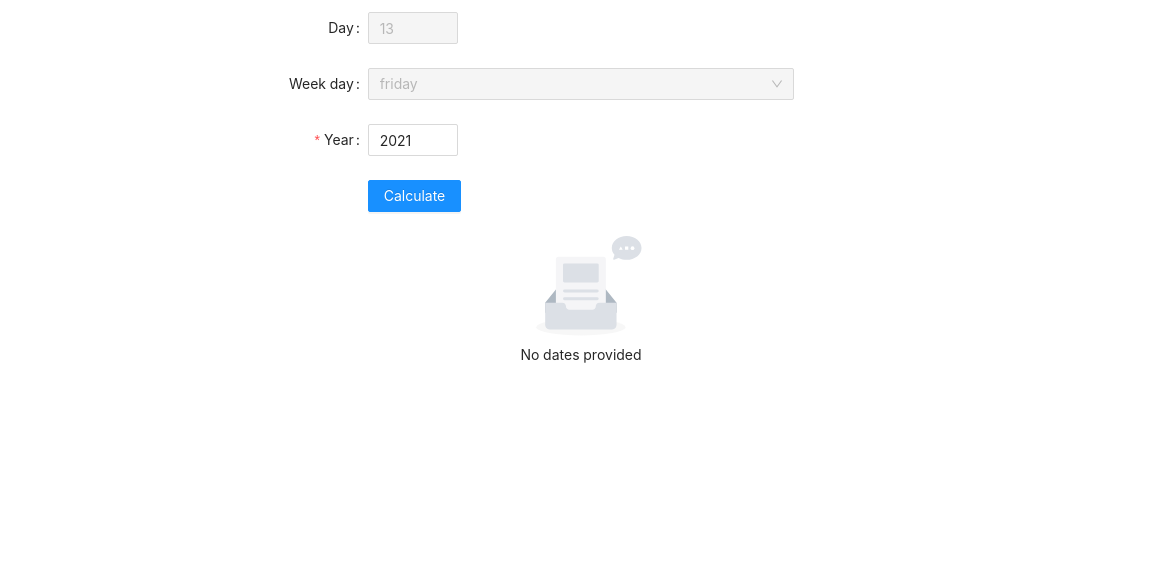
Test: DaysFinder component (defaulting day 13 friday) › should display 2 calendars for the year 2020 and 3 for 2015
Replace the text in the number field labelled "Year" with "2020" at (413, 140), box [369,125,457,155]
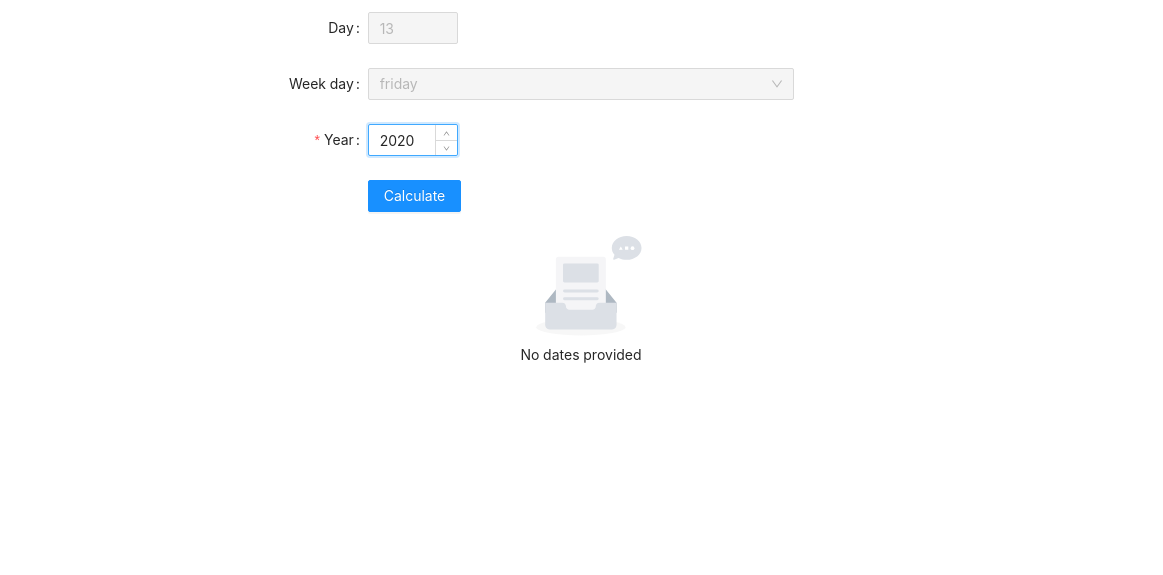
Expected: the text "No dates provided" is shown, [520,346,642,363]
Click the button with test id "submit" at (414, 196), box [368,180,461,212]
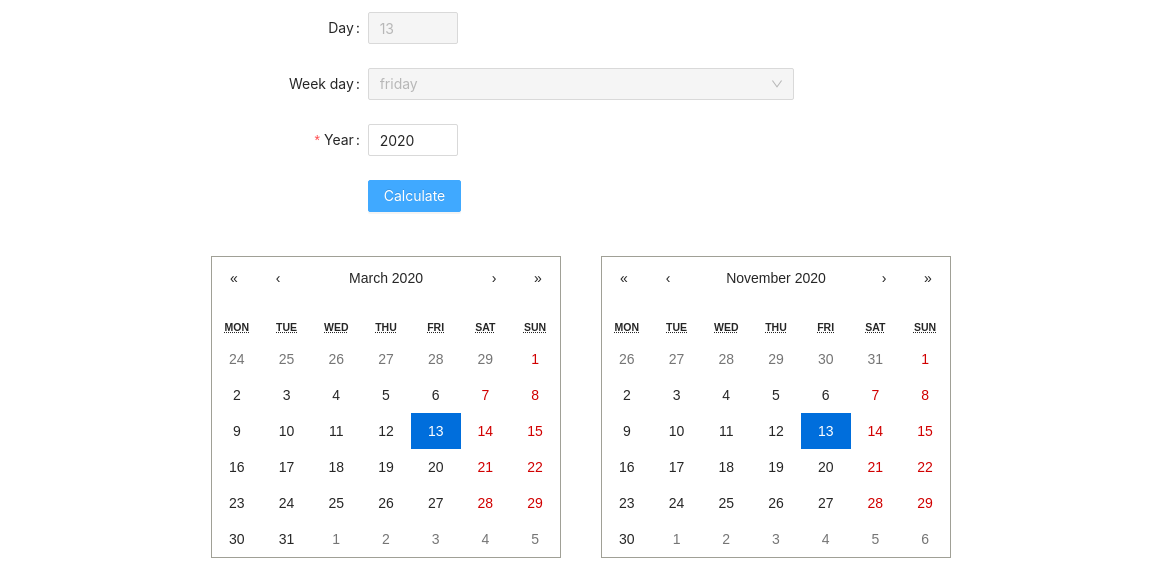
Expected: the number of elements with class "calendar" is 2, [211,256,561,558]; [601,256,951,558]
Replace the text in the number field labelled "Year" with "2015" at (413, 140), box [369,125,457,155]
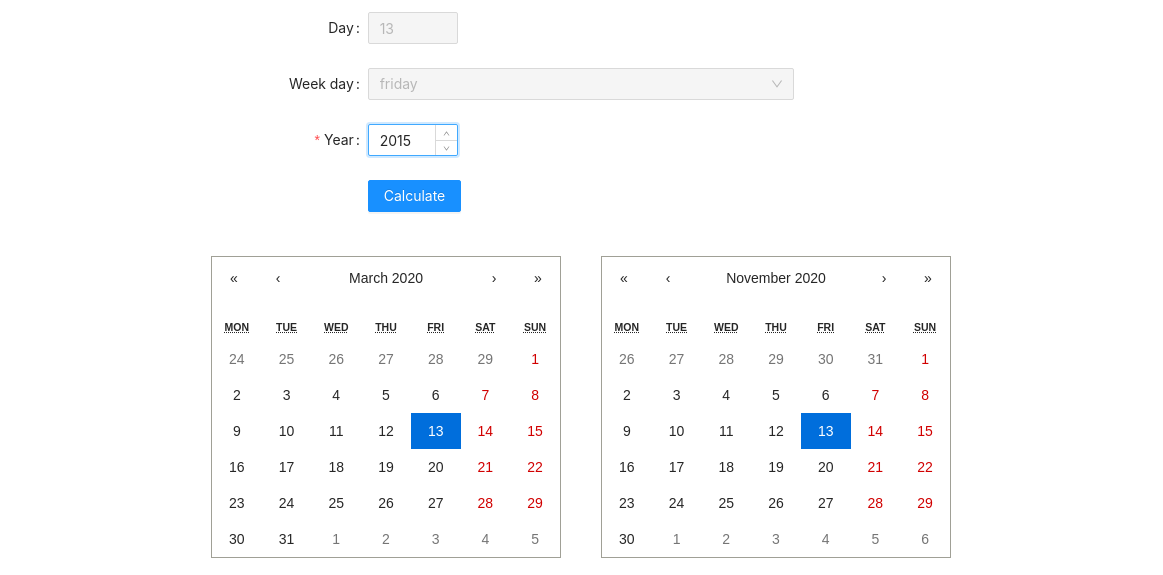
Click the button with test id "submit" at (414, 196), box [368,180,461,212]
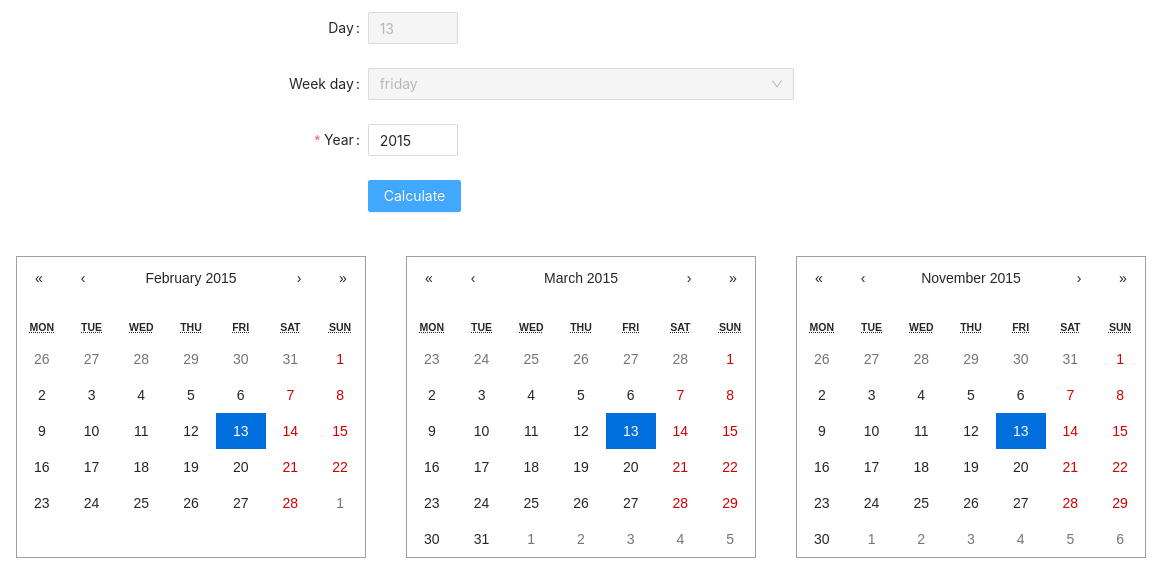
Expected: the number of elements with class "calendar" is 3, [16,256,366,558]; [406,256,756,558]; [796,256,1146,558]
